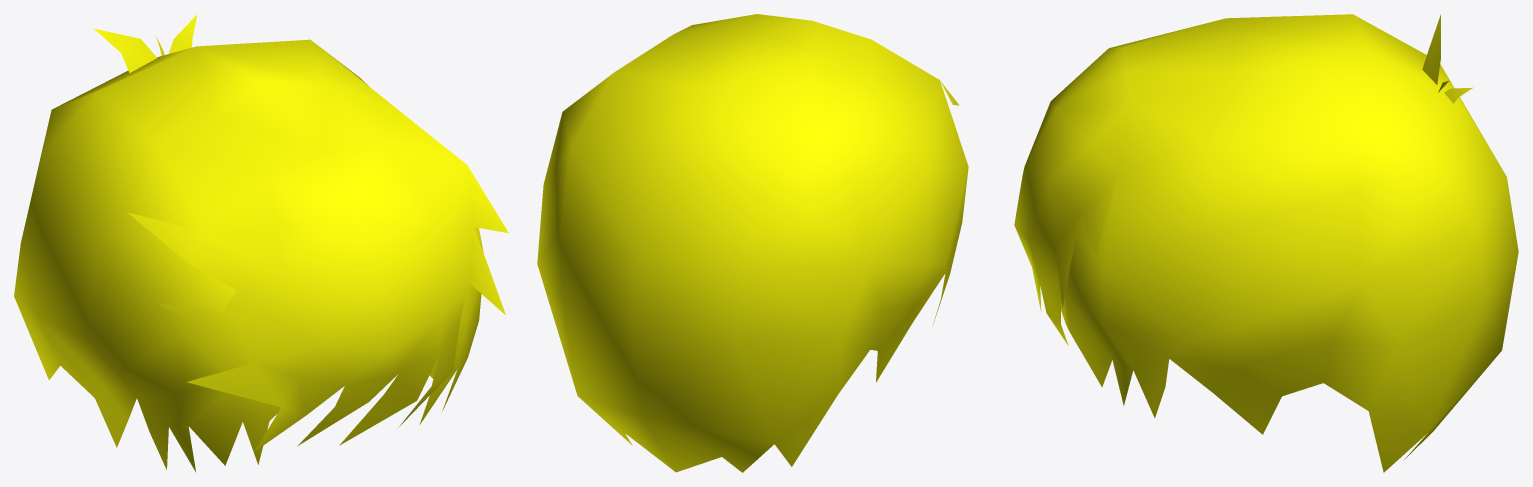
The model's file is hair_M19Model.glb.
The picture shows the model from 3 angles, left to right: view 1: azimuth 30°, elevation 25°; view 2: azimuth 150°, elevation 25°; view 3: azimuth 270°, elevation 25°; orthographic projection. The views are drawn at different scales.
Parts seen in each view (by area): view 1: HairM19; view 2: HairM19; view 3: HairM19.
Boxes of the visible parts, x1,y1,x2,y2 form: HairM19: (14,14,508,471); HairM19: (537,14,968,472); HairM19: (1014,14,1518,472).
Size of the model in its own units: 0.5557 by 0.6063 by 0.6956.
Materials: 1 (1 with a texture image).
